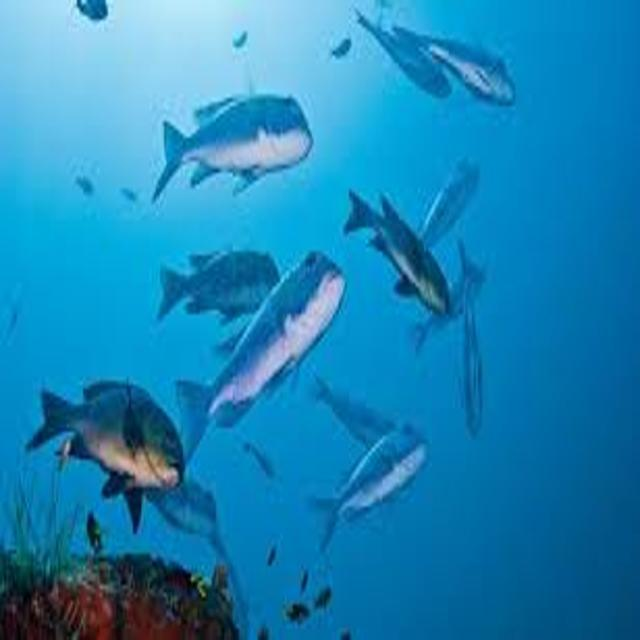fish: (185, 248, 350, 460), (27, 380, 187, 534), (150, 94, 315, 205), (311, 417, 430, 551), (340, 187, 456, 318), (394, 22, 518, 109), (155, 248, 279, 326), (410, 242, 487, 356), (357, 10, 451, 97), (404, 157, 480, 259), (313, 366, 400, 447), (463, 302, 487, 440), (75, 0, 111, 21), (327, 40, 357, 61), (231, 33, 249, 50)
